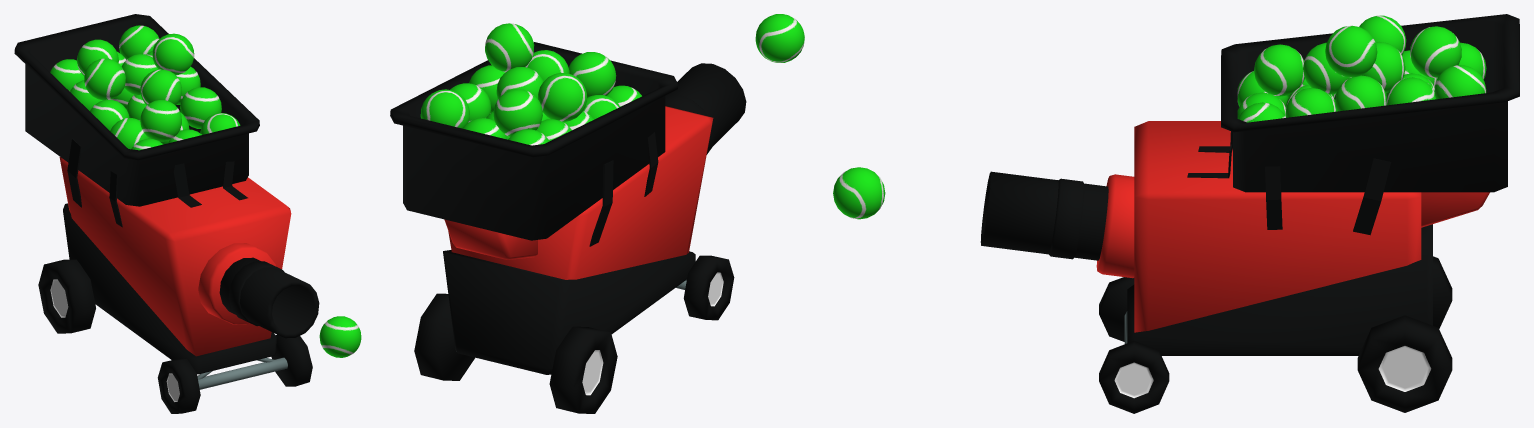
File: Tennis Ball machine.fbx
The picture shows the model from 3 angles, left to right: view 1: azimuth 30°, elevation 25°; view 2: azimuth 150°, elevation 25°; view 3: azimuth 270°, elevation 25°; orthographic projection. The views are drawn at different scales.
Parts seen in each view (by area): view 1: Material-material, Material_001-material.001, Cube.002, Material_001-material, Material_003-material.003, Material-material.001, Material_003-material.001, Material_003-material, Material_004-material.020, Material_004-material, Material_004-material.021, Material_004-material.007 (+19 smaller); view 2: Material_001-material.001, Cube.002, Material-material, Material_003-material.003, Material_003-material.002, Material_001-material, Material_003-material.001, Material-material.002, Material_004-material, Material_004-material.020, Material_004-material.007, Material_004-material.006 (+16 smaller); view 3: Material-material, Material_001-material.001, Cube.002, Material_001-material, Material_003-material.002, Material-material.001, Material_003-material, Material_004-material, Material_004-material.007, Material_004-material.021, Material_003-material.004, Material_004-material.006 (+15 smaller).
Boxes of the visible parts, box(x1,y1,x2,y2) form: Material-material: box(59, 157, 291, 356); Material_001-material.001: box(14, 14, 259, 206); Cube.002: box(63, 203, 276, 374); Material_001-material: box(219, 257, 319, 338); Material_003-material.003: box(38, 259, 95, 333); Material-material.001: box(198, 243, 276, 324); Material_003-material.001: box(157, 359, 200, 413); Material_003-material: box(271, 334, 312, 386); Material_004-material.020: box(84, 58, 125, 100); Material_004-material: box(319, 316, 361, 357); Material_004-material.021: box(140, 100, 181, 141); Material_004-material.007: box(152, 33, 194, 75); Material_001-material.001: box(390, 42, 677, 240); Cube.002: box(443, 250, 695, 374); Material-material: box(448, 106, 713, 279); Material_003-material.003: box(549, 326, 617, 413); Material_003-material.002: box(414, 293, 474, 380); Material_001-material: box(668, 63, 746, 145); Material_003-material.001: box(683, 255, 734, 320); Material-material.002: box(444, 219, 537, 259); Material_004-material: box(755, 14, 804, 62); Material_004-material.020: box(538, 72, 586, 121); Material_004-material.007: box(485, 23, 534, 72); Material_004-material.006: box(493, 89, 542, 136); Material-material: box(1134, 121, 1421, 332); Material_001-material.001: box(1221, 14, 1519, 192); Cube.002: box(1127, 224, 1432, 355); Material_001-material: box(980, 171, 1108, 260); Material_003-material.002: box(1357, 315, 1452, 412); Material-material.001: box(1096, 174, 1134, 278); Material_003-material: box(1099, 340, 1169, 413); Material_004-material: box(833, 167, 885, 219); Material_004-material.007: box(1325, 25, 1377, 77); Material_004-material.021: box(1254, 44, 1304, 96); Material_003-material.004: box(1049, 178, 1084, 259); Material_004-material.006: box(1410, 26, 1461, 78).
Size of the model in its own units: 160 by 329 by 563.
5 materials, 1 textured.
